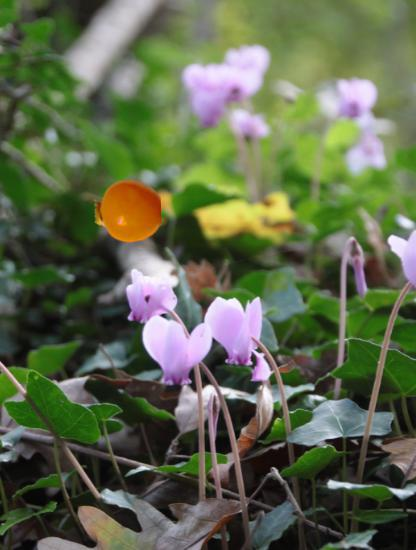Physalis: (93, 177, 162, 246)
